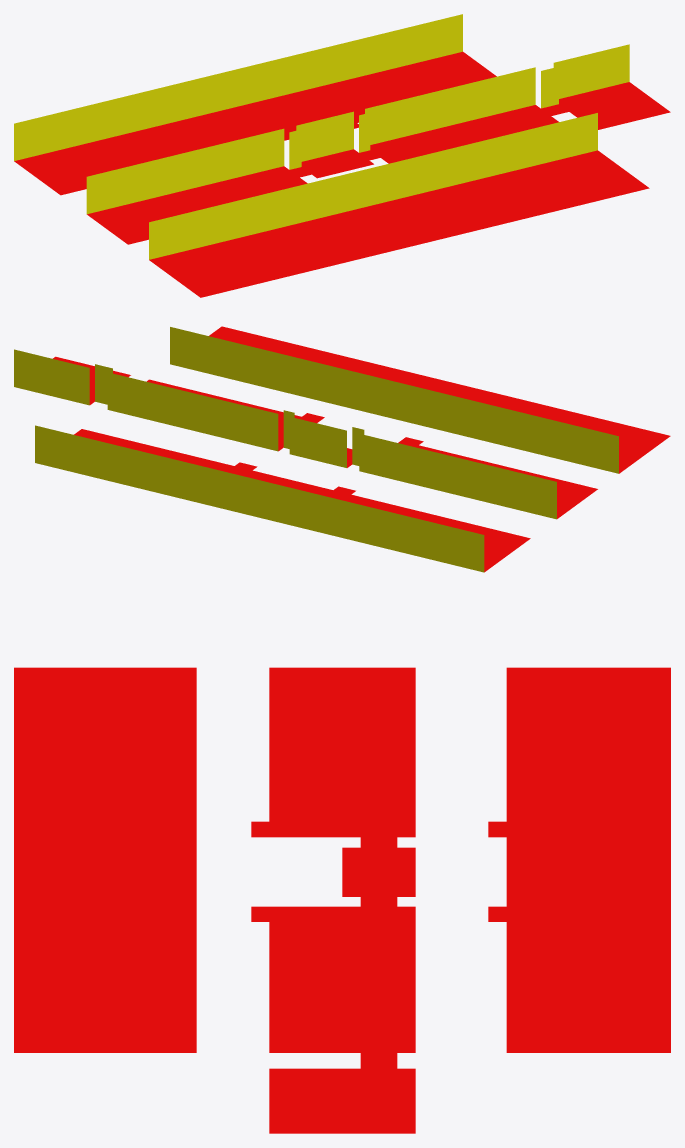
File: RoomMeshes.fbx
The picture shows the model from 3 angles, top to bottom: view 1: azimuth 30°, elevation 25°; view 2: azimuth 150°, elevation 25°; view 3: azimuth 270°, elevation 25°; orthographic projection. The views are drawn at different scales.
Visible parts, largest first — view 1: DeskRoomSouth, DeskRoomNorth, ConferenceRoom, LunchRoom, BalconyRoom, ElevatorRoom; view 2: DeskRoomSouth, DeskRoomNorth, ConferenceRoom, LunchRoom, BalconyRoom, ElevatorRoom; view 3: DeskRoomSouth, DeskRoomNorth, ConferenceRoom, LunchRoom, BalconyRoom, ElevatorRoom.
Part boxes in pixels (<box>): DeskRoomSouth: <box>149,113,649,297</box>; DeskRoomNorth: <box>14,14,496,195</box>; ConferenceRoom: <box>86,128,308,244</box>; LunchRoom: <box>361,67,559,163</box>; BalconyRoom: <box>550,44,670,129</box>; ElevatorRoom: <box>296,111,380,178</box>; DeskRoomSouth: <box>170,326,670,473</box>; DeskRoomNorth: <box>35,425,530,572</box>; ConferenceRoom: <box>355,427,597,519</box>; LunchRoom: <box>104,366,324,451</box>; BalconyRoom: <box>14,349,130,405</box>; ElevatorRoom: <box>283,410,364,467</box>; DeskRoomSouth: <box>14,667,196,1052</box>; DeskRoomNorth: <box>488,667,670,1052</box>; ConferenceRoom: <box>251,667,415,844</box>; LunchRoom: <box>251,899,415,1060</box>; BalconyRoom: <box>269,1061,415,1133</box>; ElevatorRoom: <box>342,837,415,898</box>.
Bounding box in the file's own units: 30.22 × 2 × 18.
